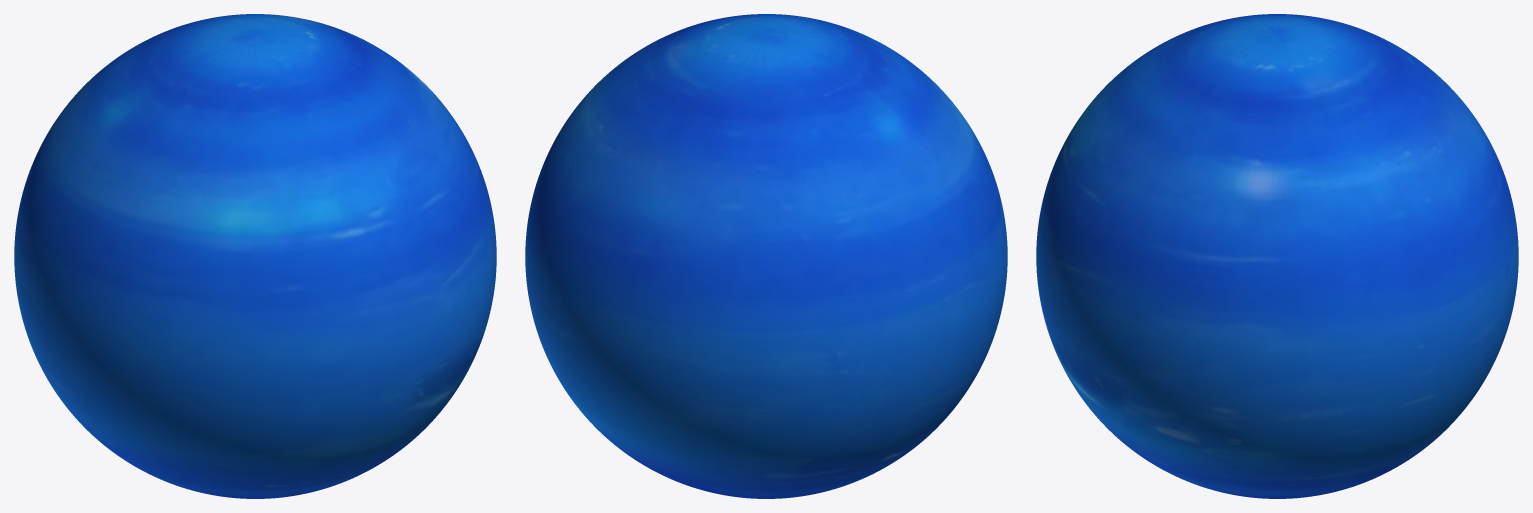
Rendered from neptune_compressed.glb.
The picture shows the model from 3 angles, left to right: view 1: azimuth 30°, elevation 25°; view 2: azimuth 150°, elevation 25°; view 3: azimuth 270°, elevation 25°; orthographic projection.
Visible parts, largest first — view 1: Object_4; view 2: Object_4; view 3: Object_4.
Boxes of the visible parts, box(x1,y1,x2,y2) form: Object_4: box(14, 14, 496, 498); Object_4: box(525, 14, 1007, 498); Object_4: box(1036, 14, 1518, 498).
Size of the model in its own units: 2.23 by 2.25 by 2.23.
Materials: 1 (1 with a texture image).
